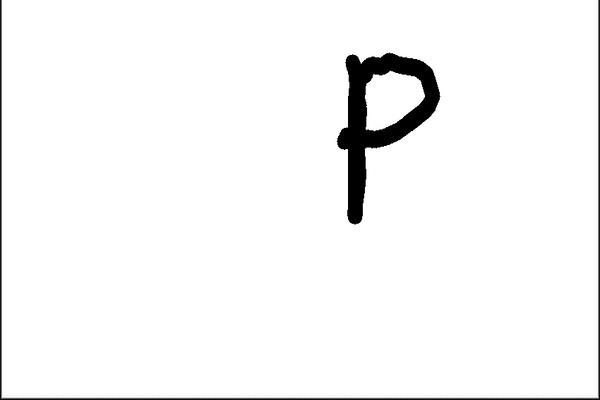P: (331, 44, 446, 233)
